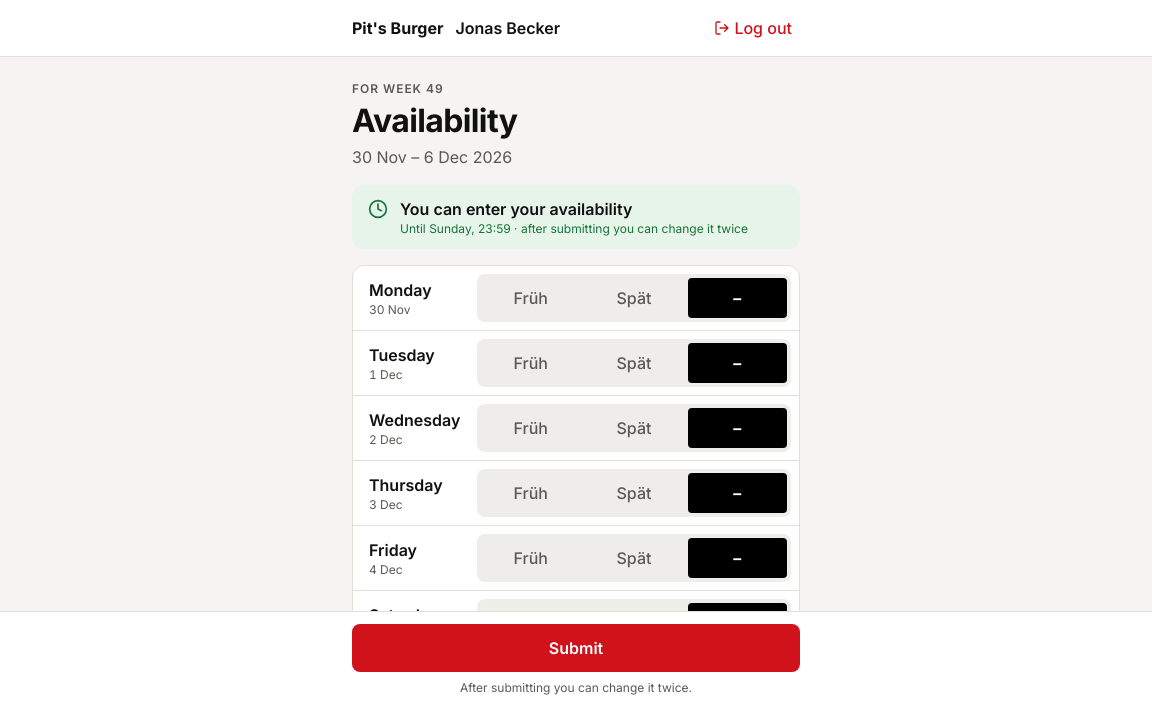
Availability › confirms the first submit in a sheet, then shows it as saved
This screenshot has width=1152, height=720.
Click the radio button labelled "Früh" next to "Monday" at (531, 298), box x1=481 y1=278 x2=580 y2=318
(page scrolled)
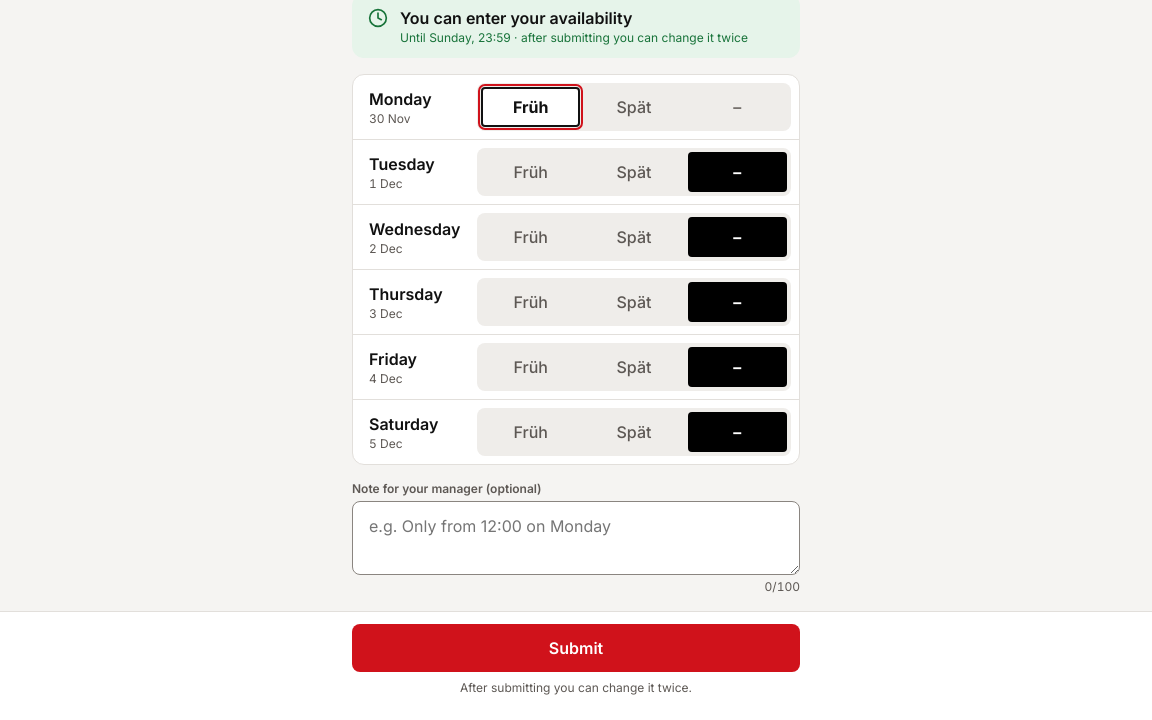
Type " Only after 12 " into the text box labelled "Note for your manager (optional)" at (576, 538), box x1=352 y1=501 x2=800 y2=575
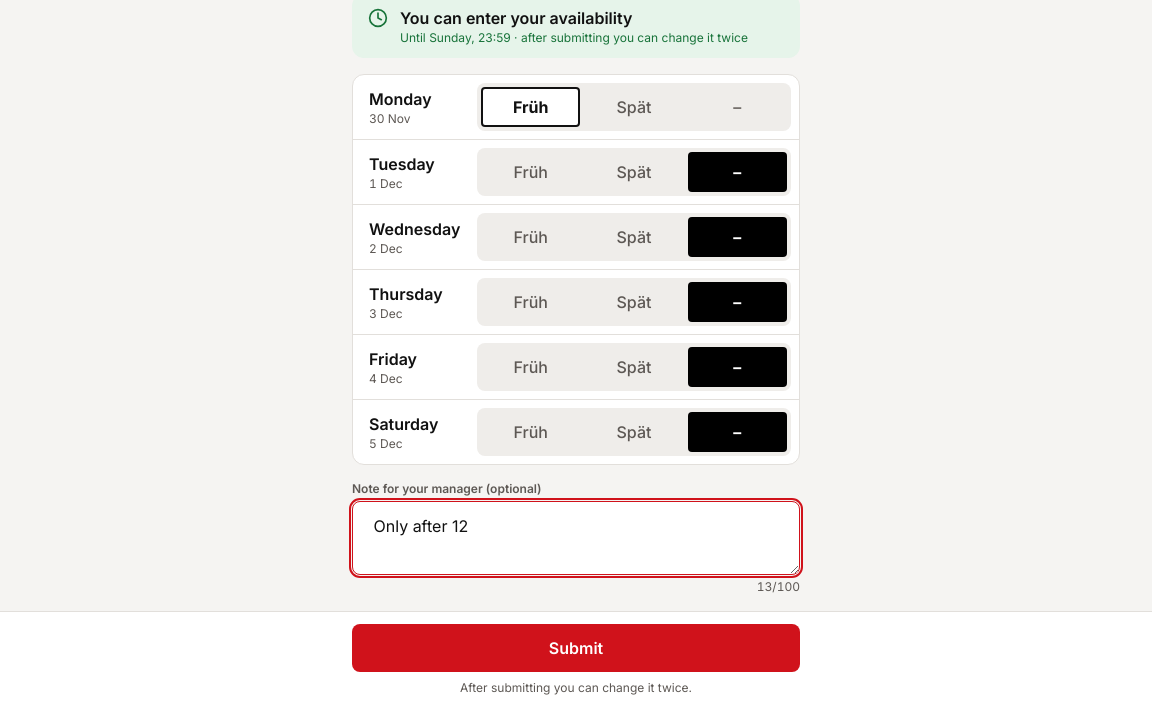
Click the button "Submit" at (576, 648), box x1=352 y1=624 x2=800 y2=672
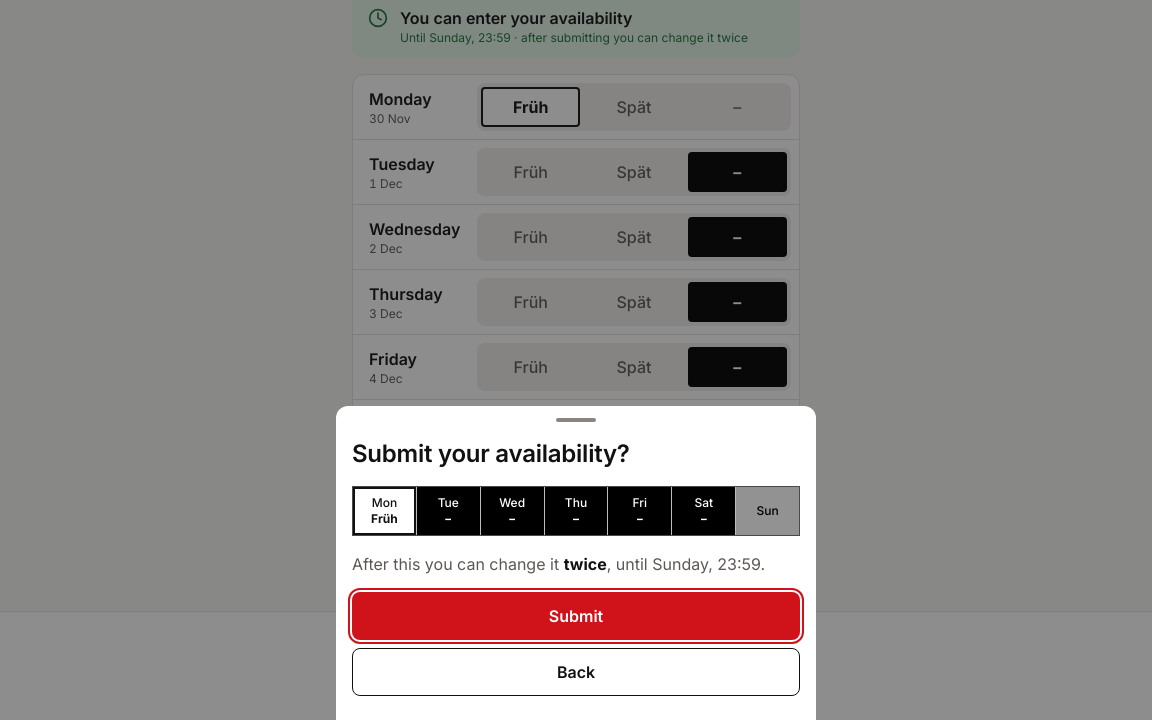
expect the list item with aria-label "Monday: Früh" is shown: met, box x1=353 y1=487 x2=416 y2=535
expect the list item with aria-label "Sunday: closed" is shown: met, box x1=736 y1=487 x2=799 y2=535
Click the button "Submit" at (576, 616), box x1=352 y1=592 x2=800 y2=640
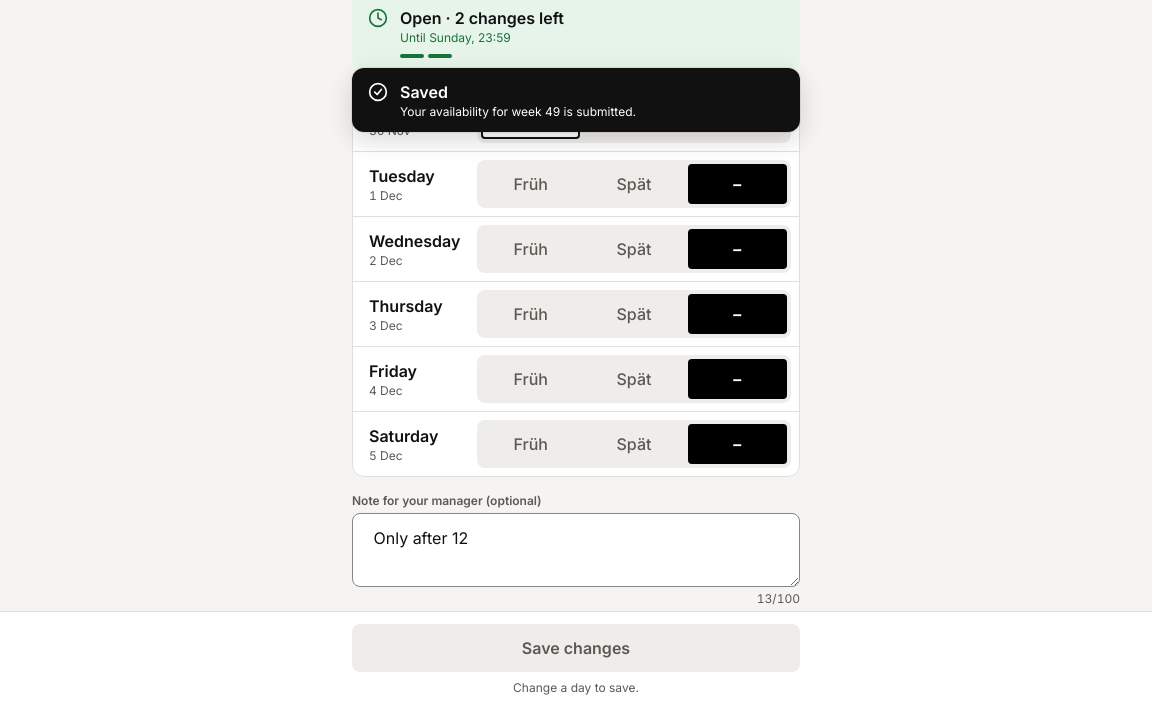
expect the text "Saved" is shown: met, box x1=400 y1=82 x2=448 y2=102
expect the dialog is gone: met
expect the text "Open · 2 changes left" is shown: met, box x1=400 y1=6 x2=564 y2=30
